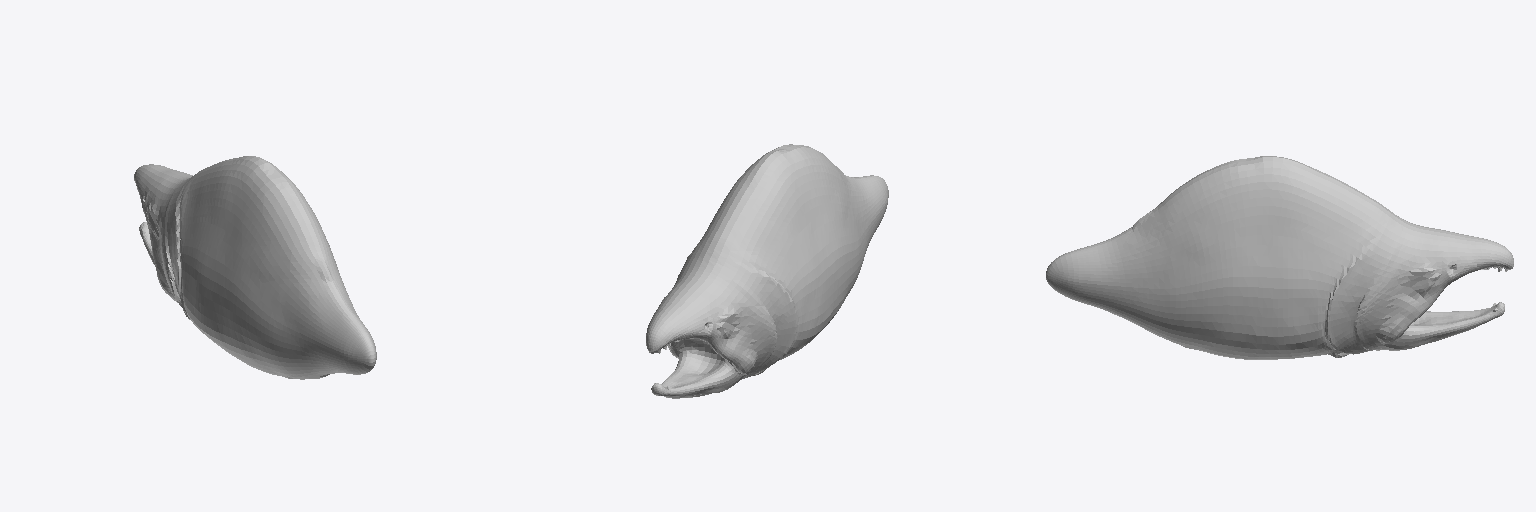
File: SpawnSalmonZbrush.OBJ
The picture shows the model from 3 angles: view 1: azimuth 30°, elevation 25°; view 2: azimuth 150°, elevation 25°; view 3: azimuth 270°, elevation 25°; orthographic projection.
Parts seen in each view (by area): view 1: Group12415; view 2: Group12415; view 3: Group12415.
Part boxes in pixels (x1,y1,x2,y2): Group12415: (134, 156, 376, 379); Group12415: (646, 144, 888, 398); Group12415: (1046, 156, 1513, 359).
Size of the model in its own units: 1.39 by 2.45 by 5.25.